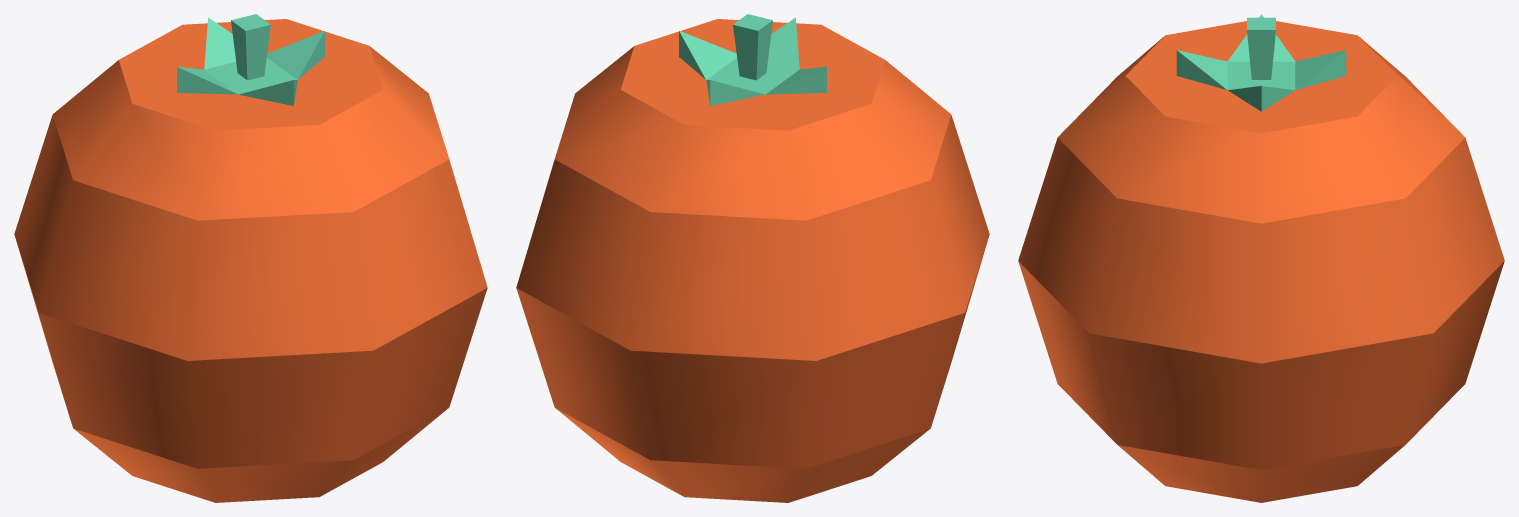
File: Orange.glb
The picture shows the model from 3 angles, left to right: view 1: azimuth 30°, elevation 25°; view 2: azimuth 150°, elevation 25°; view 3: azimuth 270°, elevation 25°; orthographic projection.
Visible parts, largest first — view 1: Orange; view 2: Orange; view 3: Orange.
Part boxes in pixels (x1,y1,x2,y2): Orange: (14, 14, 487, 502); Orange: (516, 14, 989, 502); Orange: (1018, 14, 1504, 502).
Bounding box in the file's own units: 0.1697 × 0.1622 × 0.1697.
